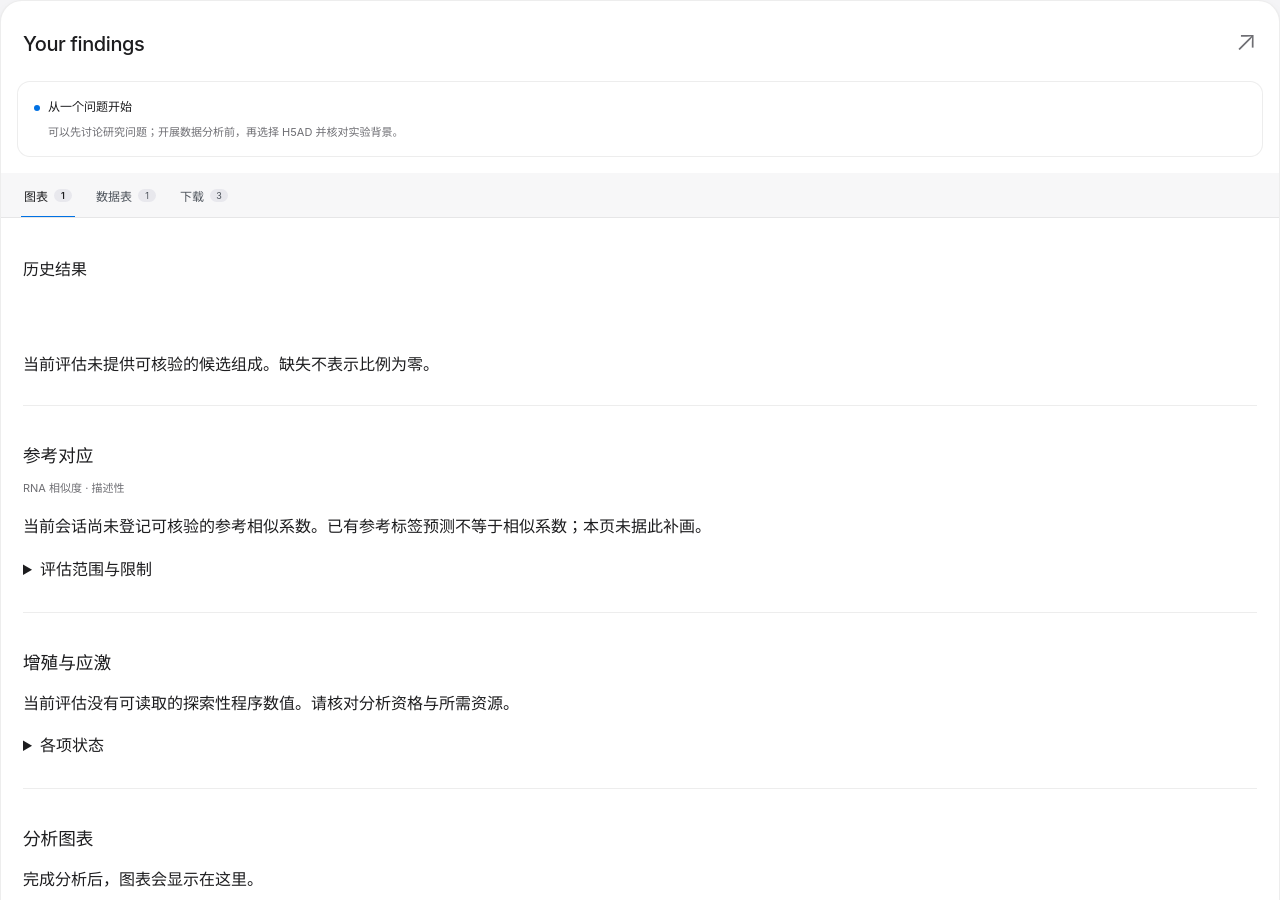
Test: ResultsPane › switches tabs and renders an authenticated table preview as inert cells
What coordinates should you click on to do the following:
click the tab "数据表 1"
I would click on:
 (126, 195)
Its box is [93,173,159,217].
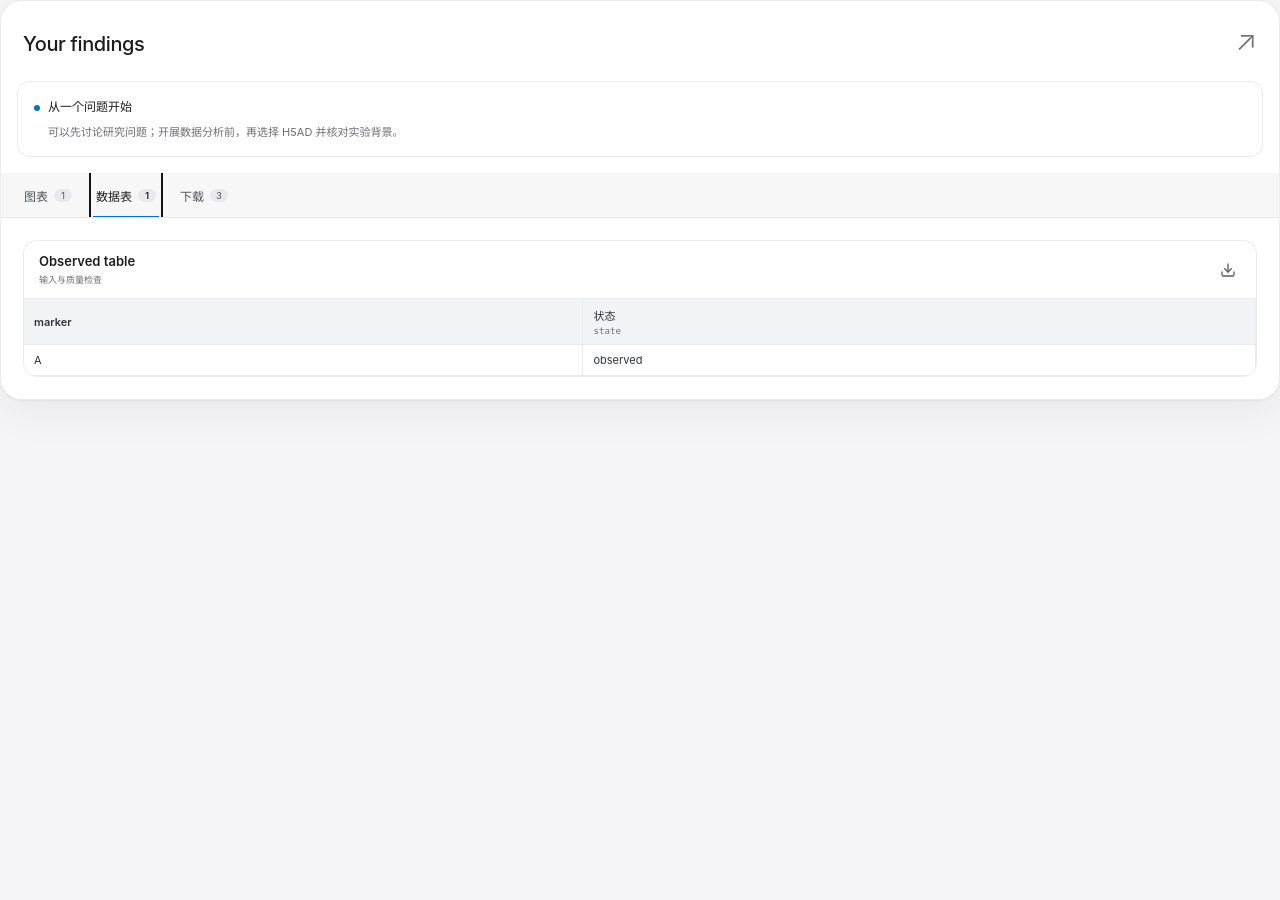
Expected: the column heading "marker" is shown, [24,299,583,345]
Expected: the cell "observed" is shown, [583,345,1256,376]
